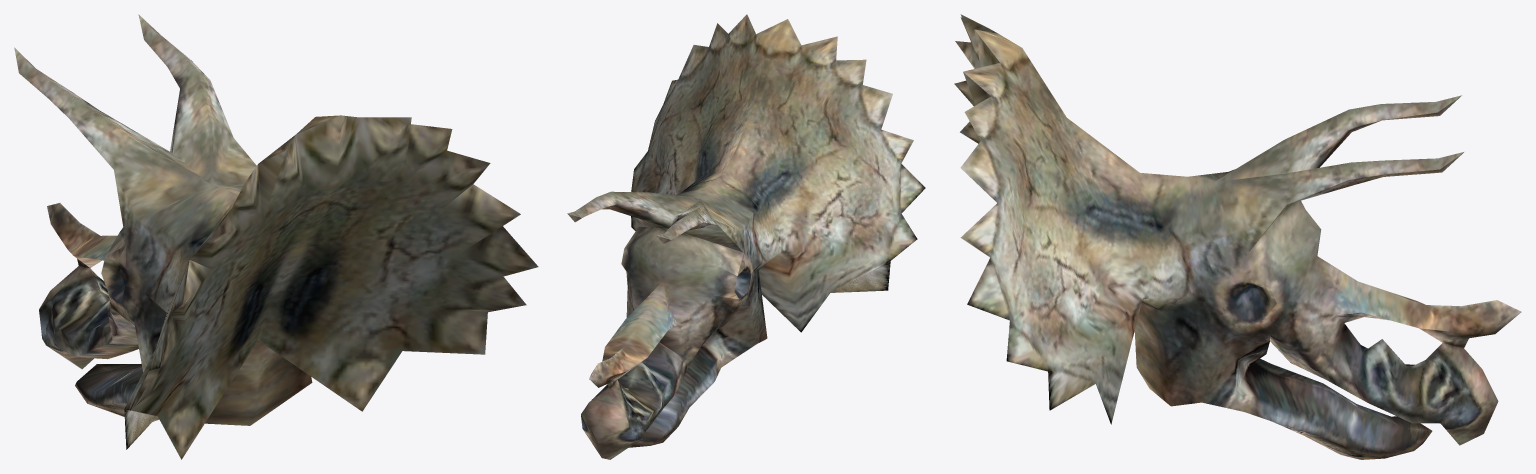
The model's file is hr_bone1.glb.
The picture shows the model from 3 angles, left to right: view 1: azimuth 30°, elevation 25°; view 2: azimuth 150°, elevation 25°; view 3: azimuth 270°, elevation 25°; orthographic projection. The views are drawn at different scales.
Parts seen in each view (by area): view 1: hr_bone1; view 2: hr_bone1; view 3: hr_bone1.
Part boxes in pixels (x1,y1,x2,y2): hr_bone1: [14, 14, 538, 459]; hr_bone1: [567, 14, 925, 459]; hr_bone1: [954, 14, 1521, 459].
Bounding box in the file's own units: 3.46 × 3.76 × 4.49.
1 material, 1 textured.
